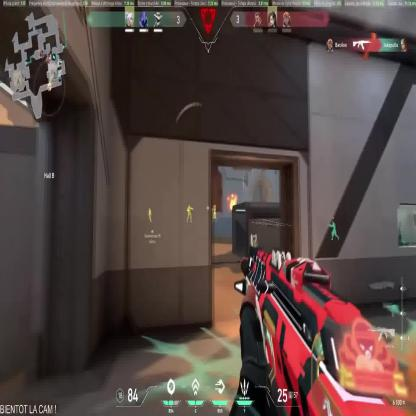enemy: (186, 204, 193, 222), (211, 202, 216, 222), (148, 207, 152, 222)
enemy_head: (213, 203, 216, 209), (148, 208, 150, 210), (188, 204, 190, 206)
